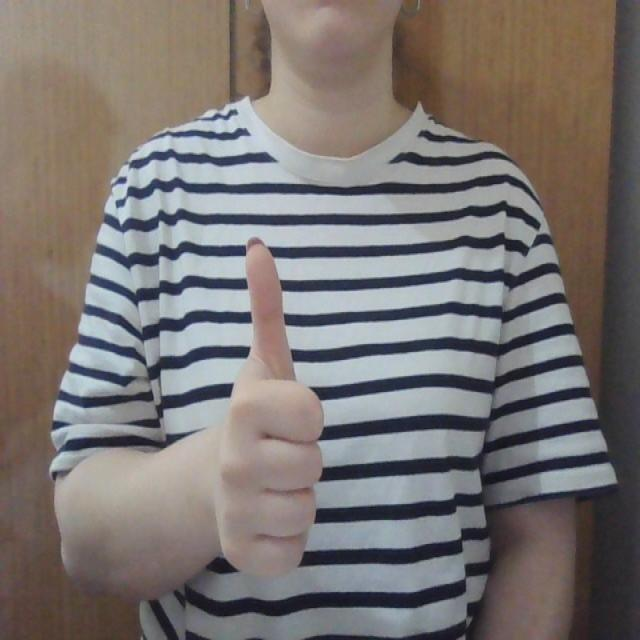Tamam: (212, 230, 330, 587)
